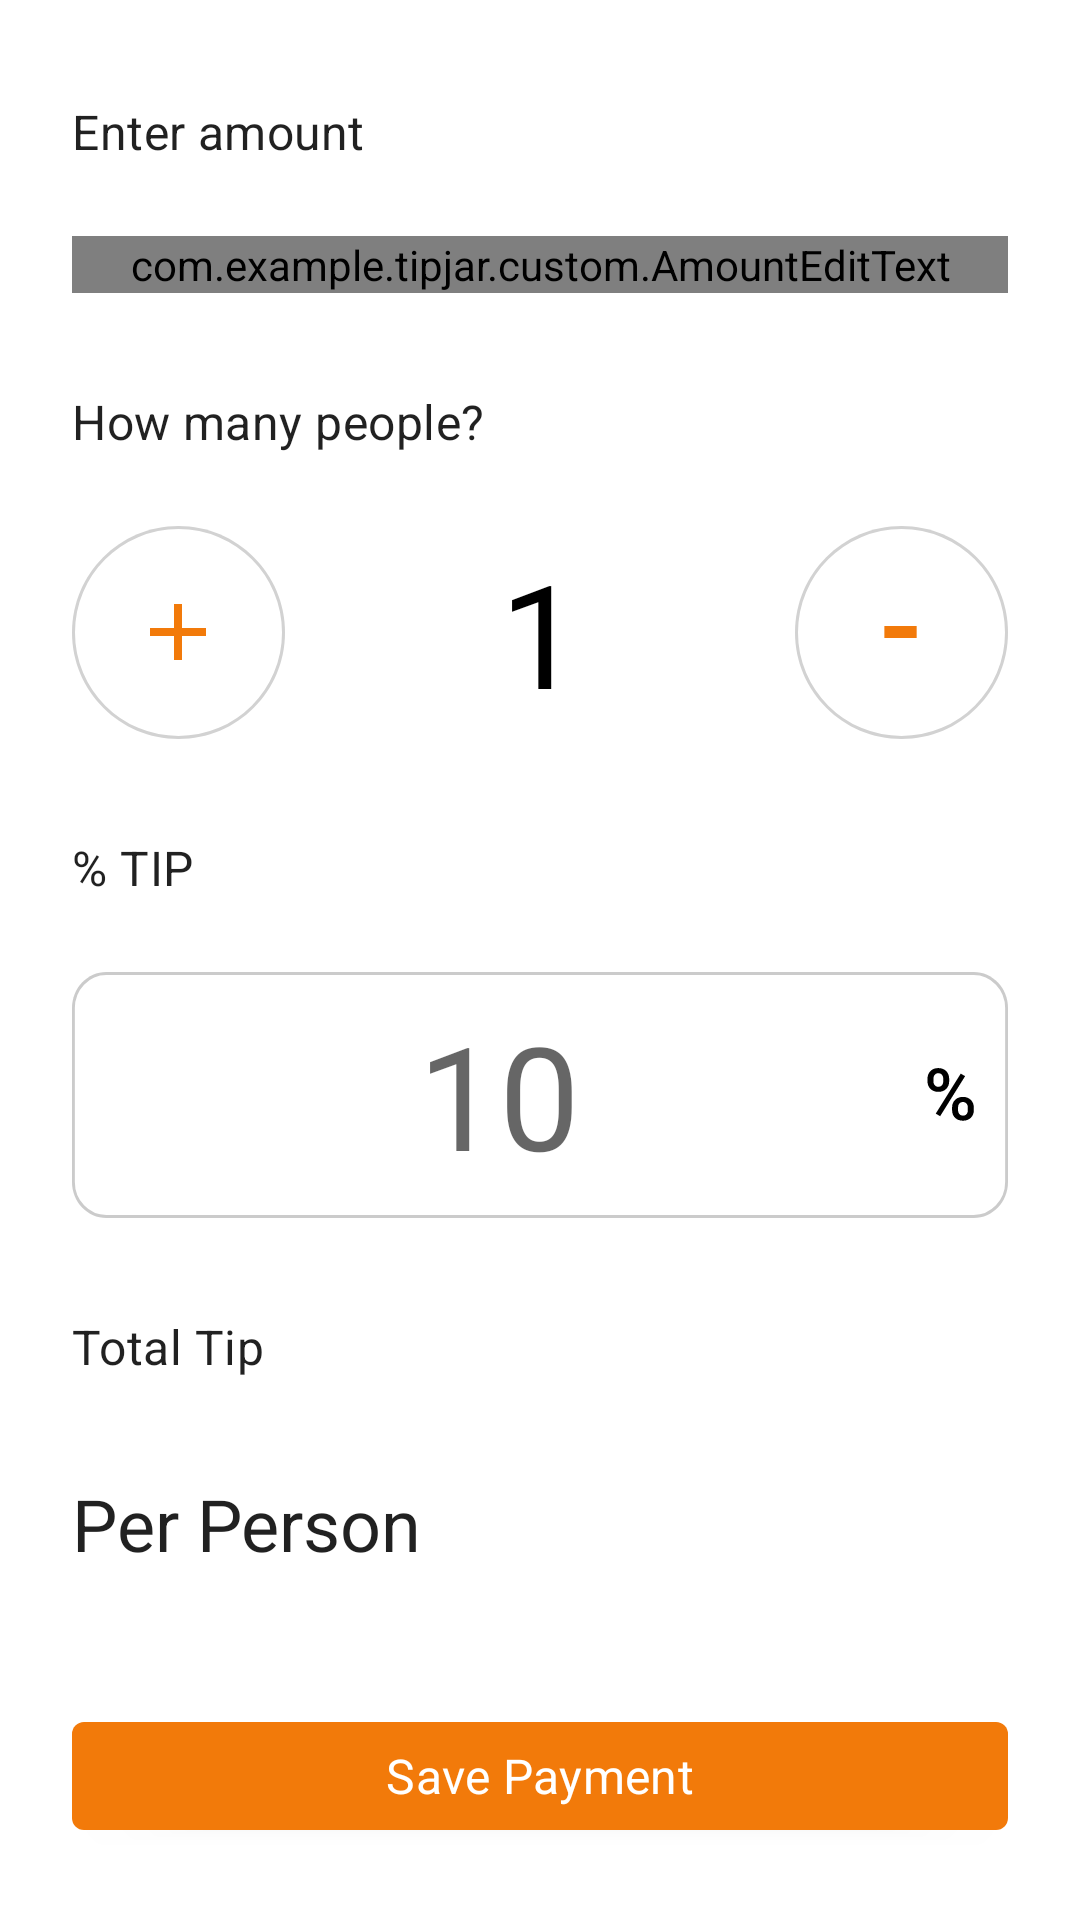

Screen size 1080 × 1920. Icon name, then its center in pixels as (x,y):
add: (178,632)
